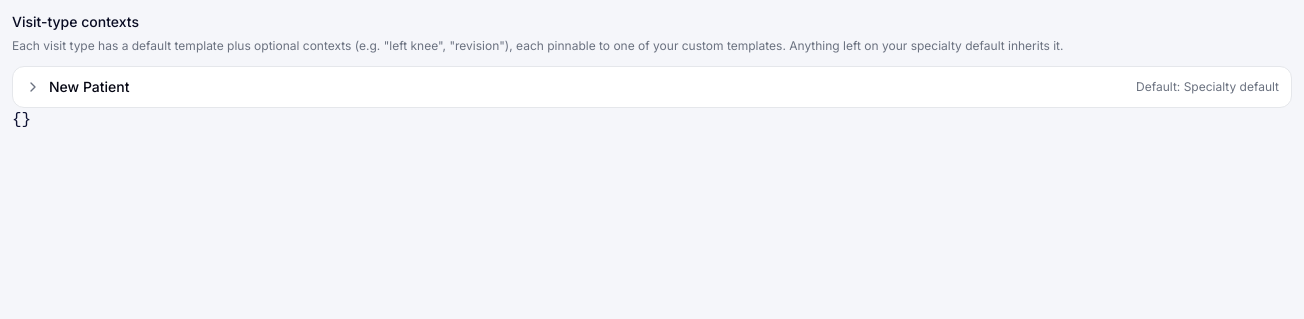
Test: VisitTypeContextsEditor — validation gates › blocks Add for an email-shaped label and surfaces the error
Click the button "New Patient Default: Specialty default". click: (89, 86)
box: [13,67,1291,107]
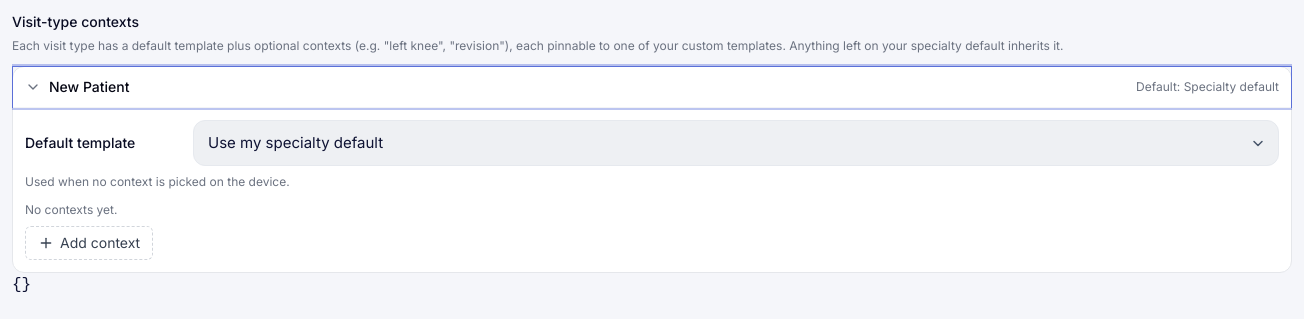
Click the button "Add context". click: (89, 243)
box: [25,226,153,260]
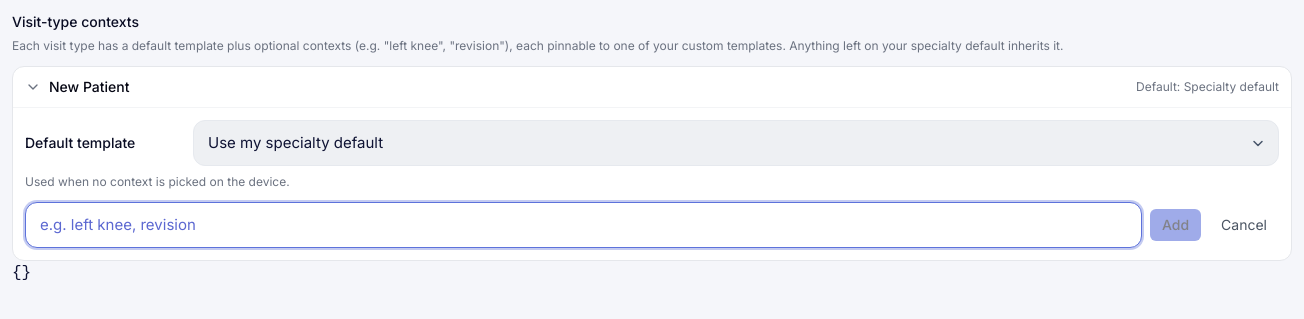
Type "perry@clinic.lan" into the field named "context label". click: (583, 225)
box: [25,202,1142,248]
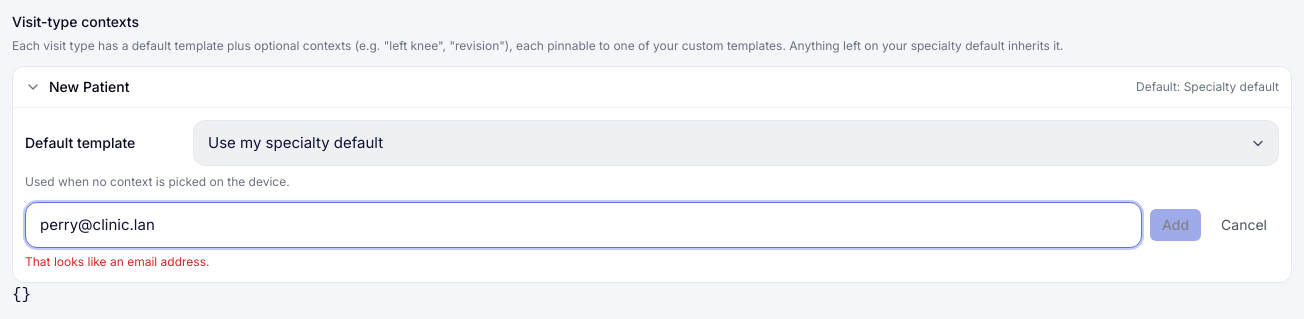
expect the button "Add" is disabled: met, box [1150,209,1201,241]
expect the text "That looks like an email address." is shown: met, box [25,254,210,269]
